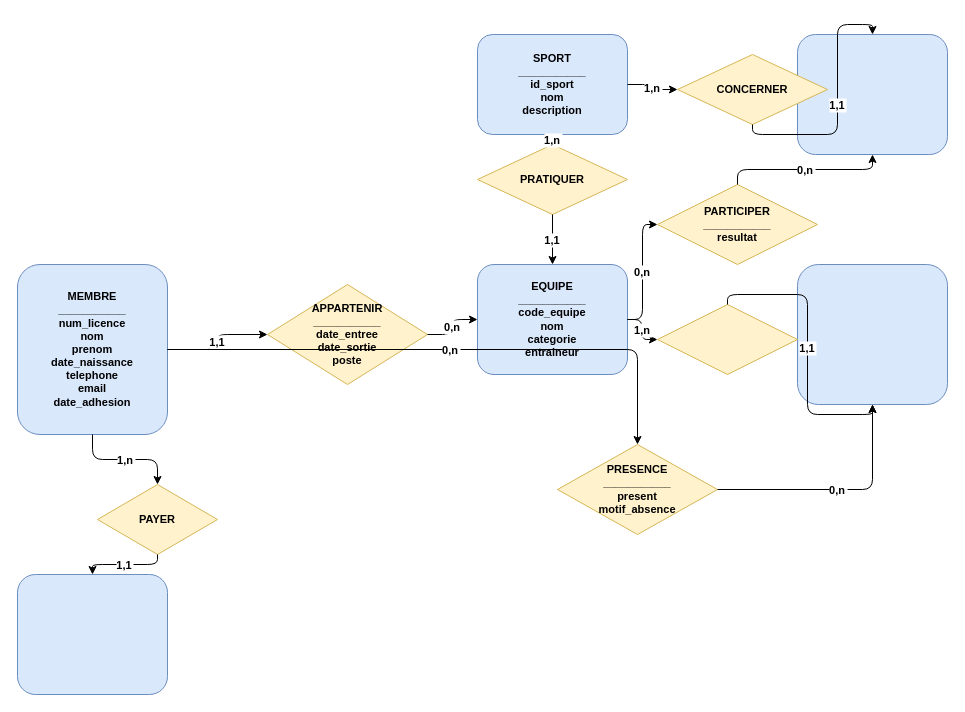
Image size: 965x712. Some labels were removed from this diagram. The shapes that lost their labels are listed below. From the top down, each one's box as (x1, y1, x2, y2) in pixels, then its label:
(796, 34, 948, 154): COMPETITION ___________ id_competition nom date lieu type
(656, 304, 798, 374): ORGANISER
(796, 264, 948, 404): ENTRAINEMENT ___________ id_entrainement date heure_debut duree lieu theme
(16, 574, 168, 694): COTISATION ___________ id_cotisation saison montant date_paiement statut
